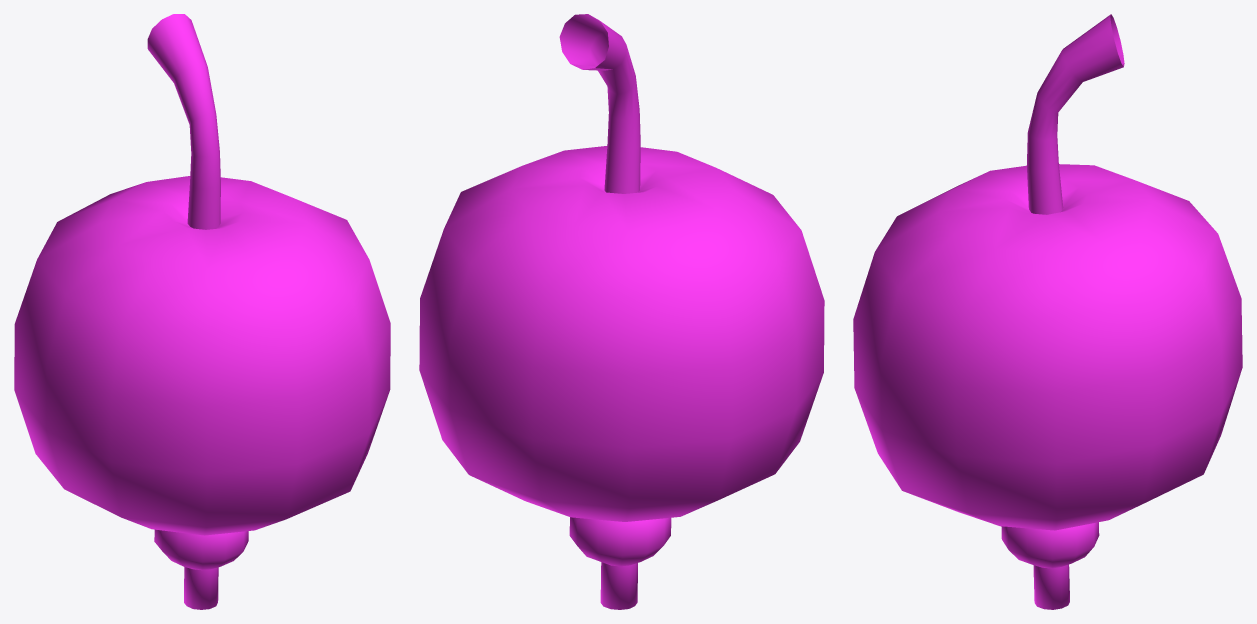
The model's file is fruit_raccord.fbx.
The picture shows the model from 3 angles, left to right: view 1: azimuth 30°, elevation 25°; view 2: azimuth 150°, elevation 25°; view 3: azimuth 270°, elevation 25°; orthographic projection. The views are drawn at different scales.
Parts seen in each view (by area): view 1: fruitw; view 2: fruitw; view 3: fruitw.
Part boxes in pixels (x1,y1,x2,y2): fruitw: (14, 14, 390, 609); fruitw: (419, 14, 824, 609); fruitw: (853, 14, 1242, 609).
Bounding box in the file's own units: 3.99 × 6.66 × 4.01.
